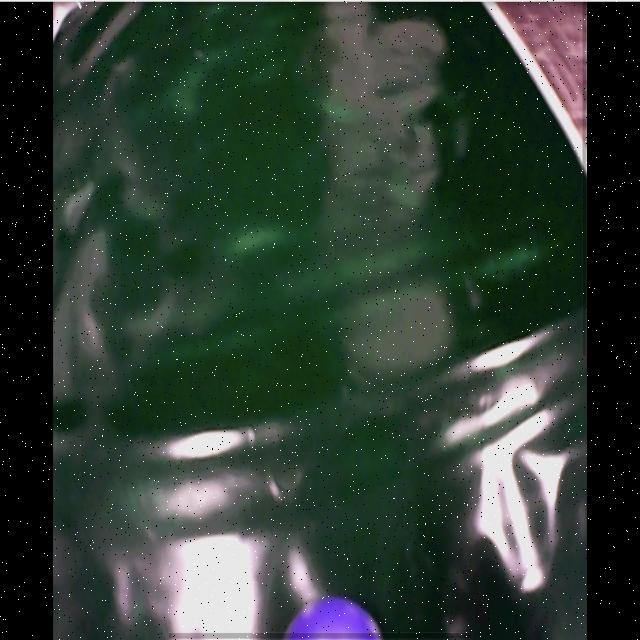ball: (283, 601, 382, 638)
